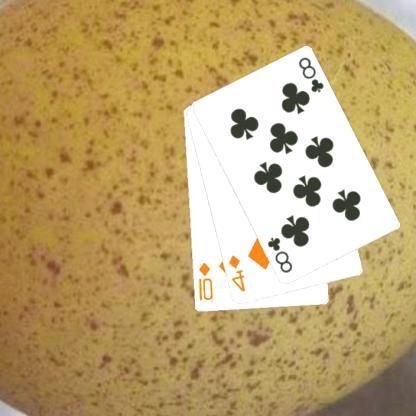10D: (197, 260, 216, 302)
4D: (227, 253, 248, 294)
8C: (297, 54, 327, 94), (266, 234, 295, 274)
